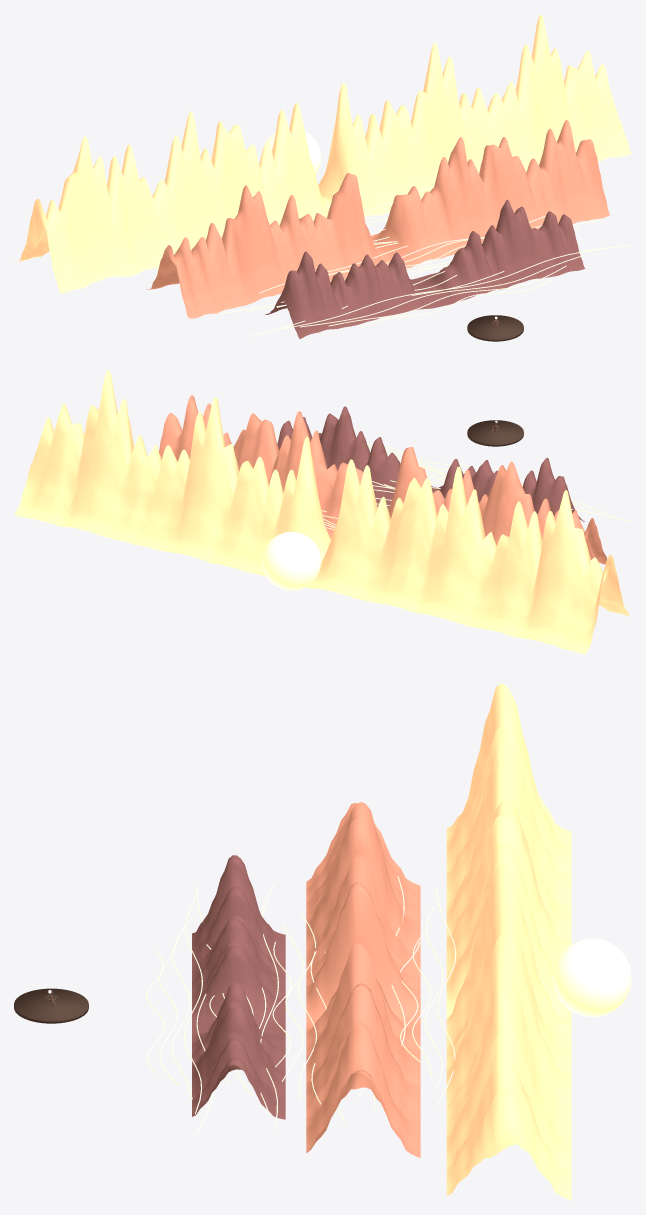
3 renders of one model, top to bottom at view 1: azimuth 30°, elevation 25°; view 2: azimuth 150°, elevation 25°; view 3: azimuth 270°, elevation 25°, orthographic. The views are drawn at different scales.
Visible parts, largest first — view 1: Integration_Tepoztlan_Sierra_Far, Integration_Tepoztlan_Ridge_Mid, Integration_Tepoztlan_Cliffs_Near, Integration_Valley_Mist, Integration_Stone_Terrace, Integration_Dawn_Sun; view 2: Integration_Tepoztlan_Sierra_Far, Integration_Tepoztlan_Ridge_Mid, Integration_Tepoztlan_Cliffs_Near, Integration_Dawn_Sun, Integration_Stone_Terrace, Integration_Valley_Mist; view 3: Integration_Tepoztlan_Sierra_Far, Integration_Tepoztlan_Ridge_Mid, Integration_Tepoztlan_Cliffs_Near, Integration_Dawn_Sun, Integration_Valley_Mist, Integration_Stone_Terrace.
Boxes of the visible parts, box(x1,y1,x2,y2) form: Integration_Tepoztlan_Sierra_Far: box(15, 15, 631, 293); Integration_Tepoztlan_Ridge_Mid: box(146, 120, 609, 318); Integration_Tepoztlan_Cliffs_Near: box(265, 199, 585, 338); Integration_Valley_Mist: box(221, 187, 631, 336); Integration_Stone_Terrace: box(467, 315, 523, 341); Integration_Dawn_Sun: box(265, 131, 321, 174); Integration_Tepoztlan_Sierra_Far: box(14, 370, 630, 654); Integration_Tepoztlan_Ridge_Mid: box(159, 395, 606, 564); Integration_Tepoztlan_Cliffs_Near: box(277, 406, 584, 521); Integration_Dawn_Sun: box(262, 532, 321, 590); Integration_Stone_Terrace: box(467, 420, 523, 446); Integration_Valley_Mist: box(274, 432, 631, 542); Integration_Tepoztlan_Sierra_Far: box(446, 683, 571, 1200); Integration_Tepoztlan_Ridge_Mid: box(306, 802, 420, 1157); Integration_Tepoztlan_Cliffs_Near: box(192, 855, 285, 1119); Integration_Dawn_Sun: box(553, 938, 631, 1017); Integration_Valley_Mist: box(146, 876, 456, 1134); Integration_Stone_Terrace: box(14, 988, 88, 1023).
Size of the model in its own units: 84 by 21.42 by 59.4.
